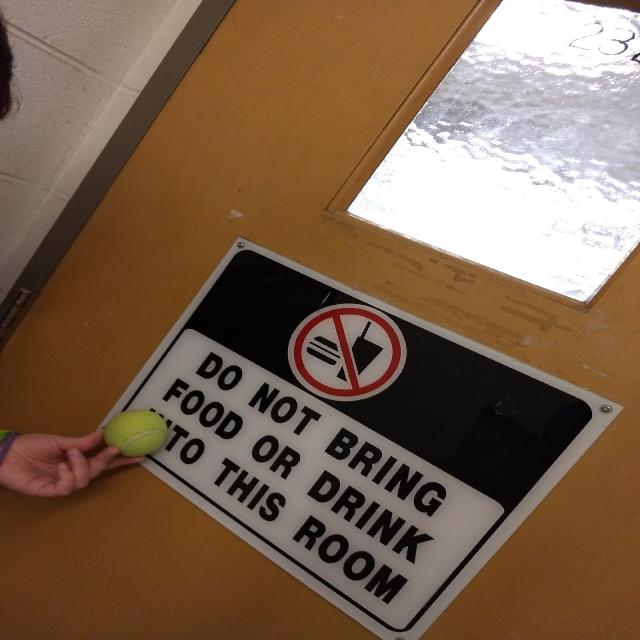tennis-ball: (104, 409, 170, 457)
